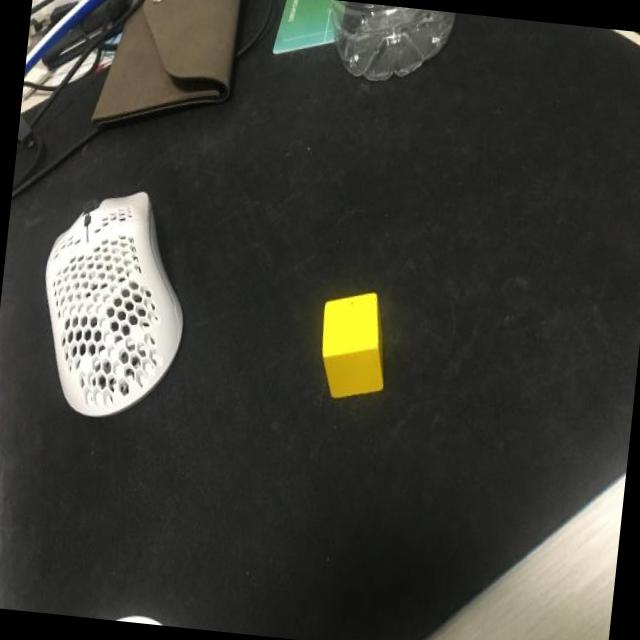yellow: (314, 288, 394, 404)
